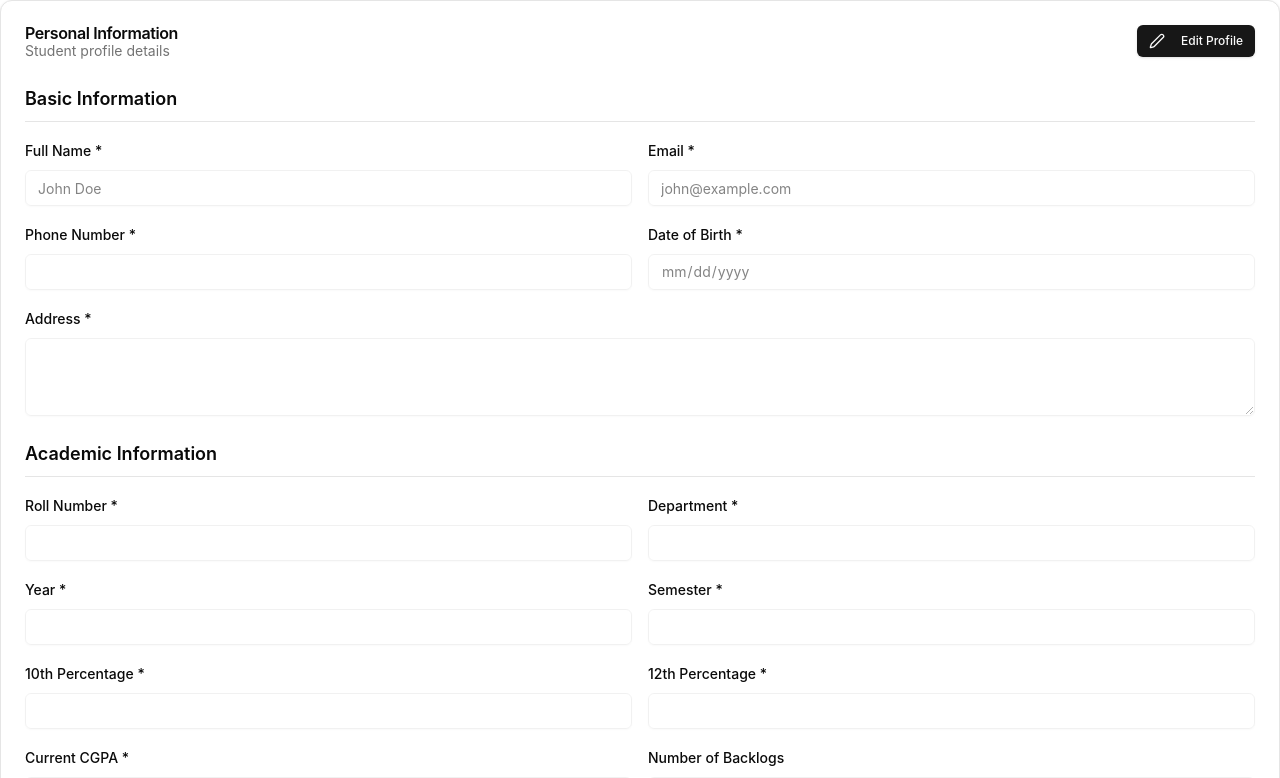
Test case: ProfileForm Component › Moderator Role - Full Access › should allow moderators to edit student profile even if completed
Check: the field labelled "Full Name *" is disabled, box [25, 170, 632, 206]
// Click edit button
What coordinates should you click on to do the following:
click the button "Edit Profile"
I would click on:
 (1196, 41)
Its box is [1137, 25, 1255, 57].
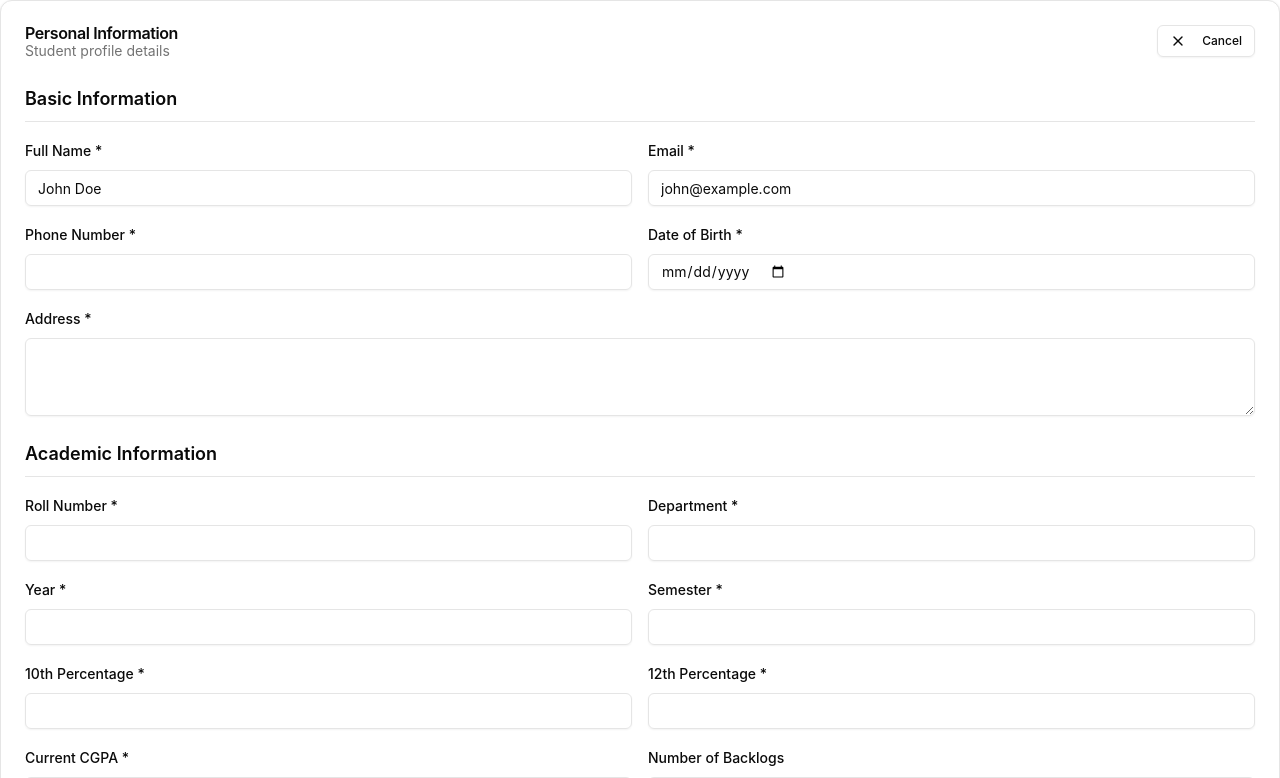
Check: the field labelled "Full Name *" is enabled, box [25, 170, 632, 206]
